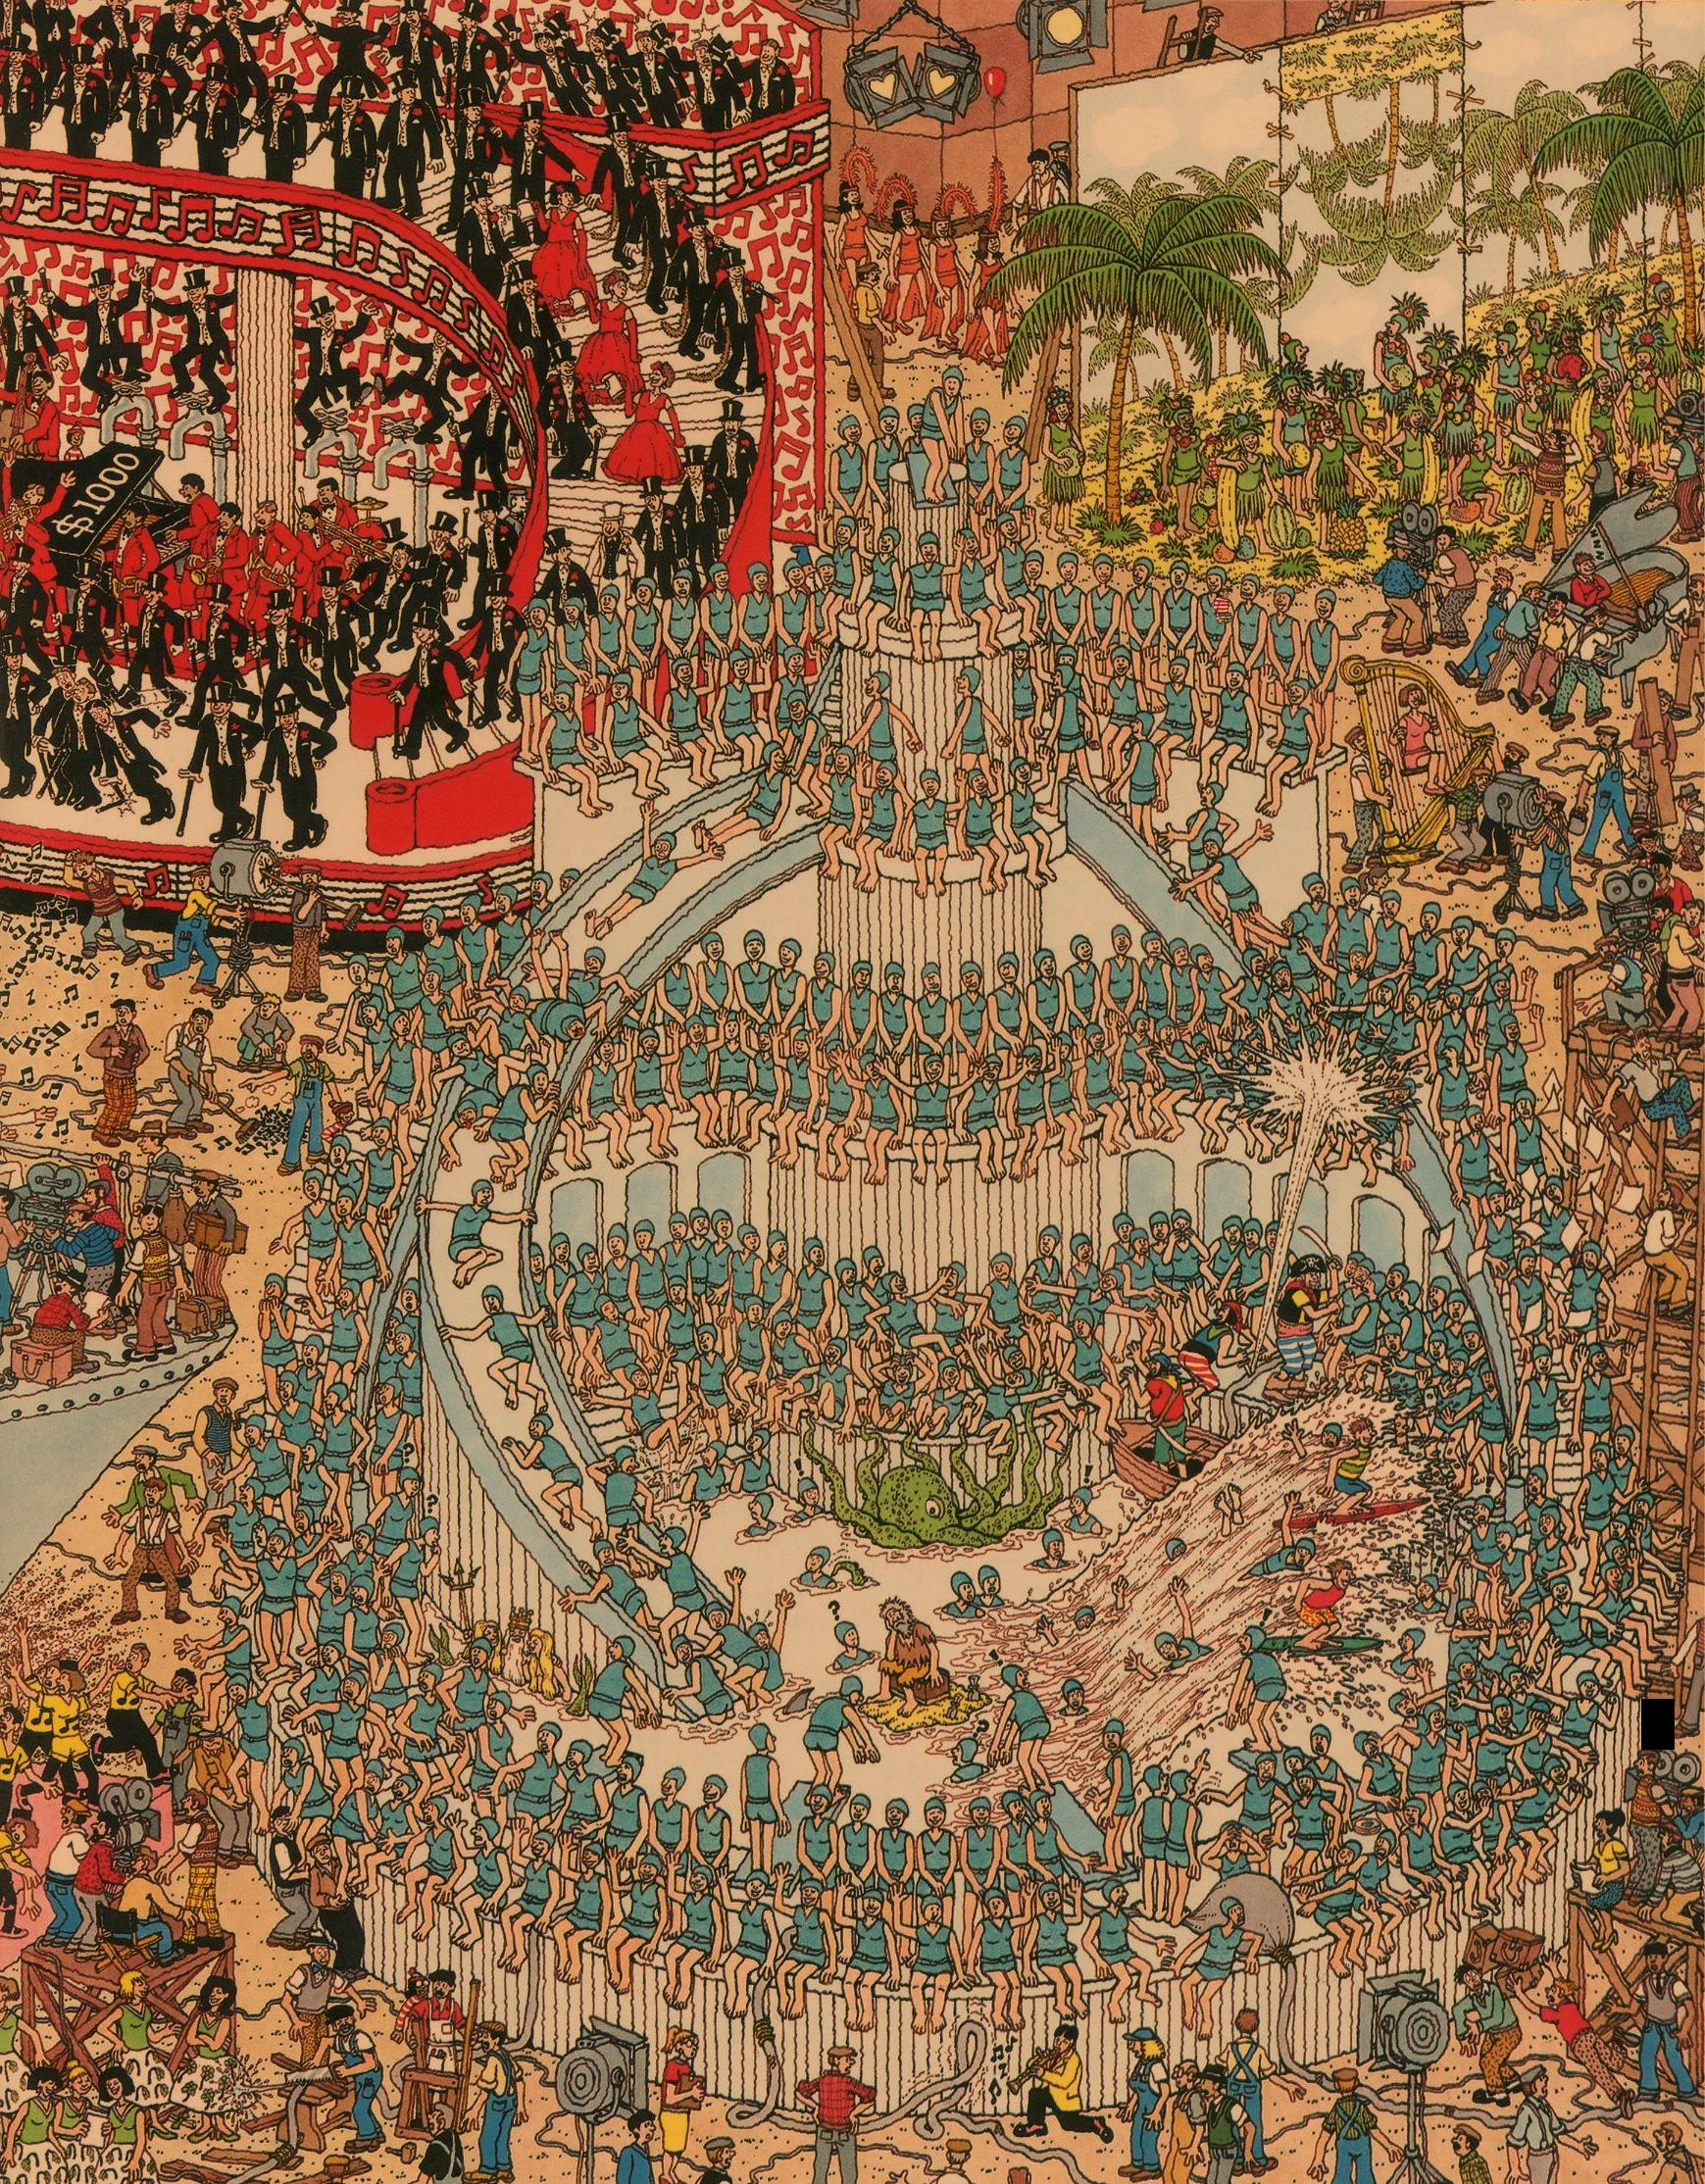waldos: (1212, 581, 1246, 633)
